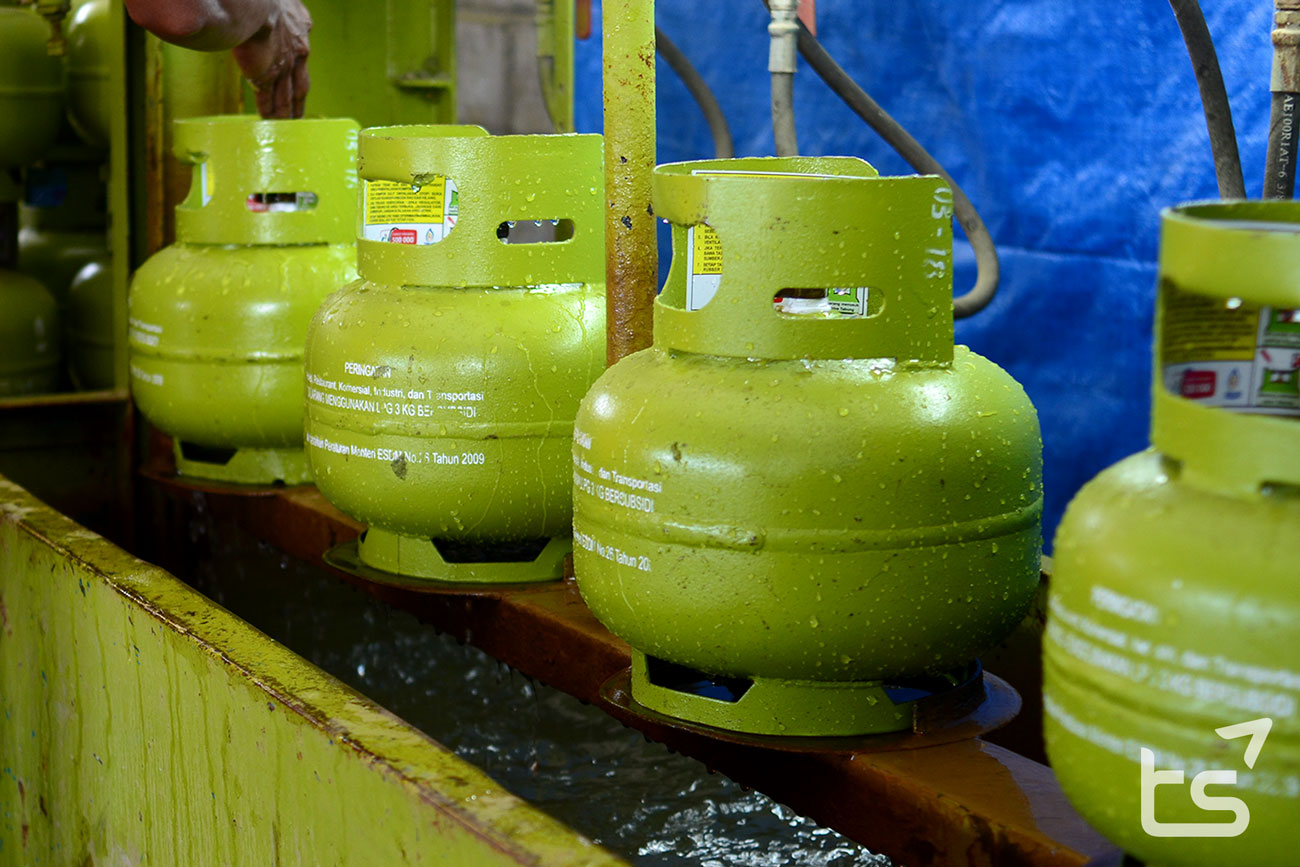gas_ijo: (571, 149, 1049, 741), (1047, 197, 1300, 866), (301, 125, 635, 589), (129, 116, 387, 489)
